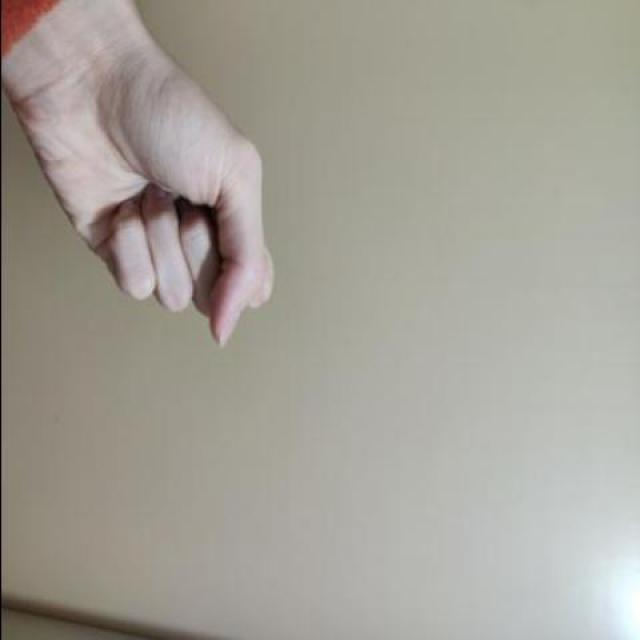Closed Hand: (29, 47, 280, 353)
